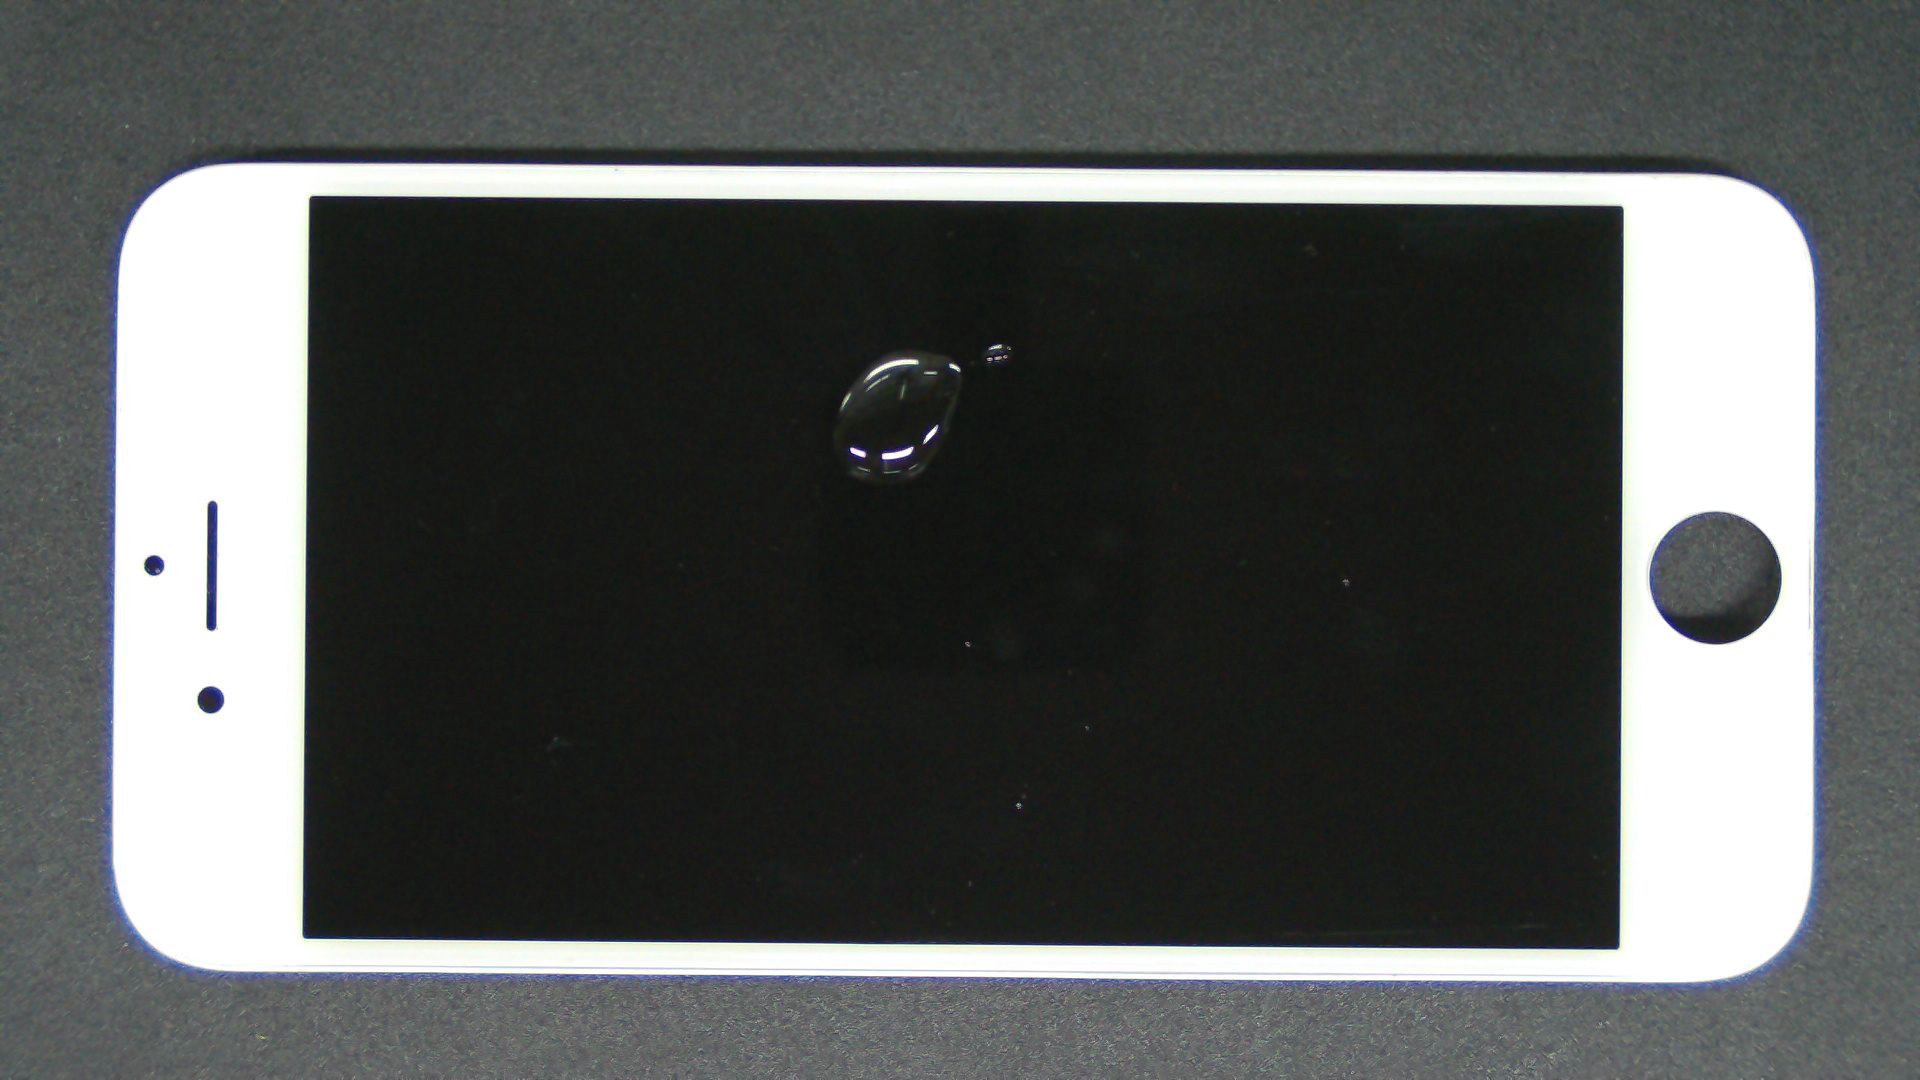defect: (829, 348, 961, 485), (980, 343, 1011, 363)
